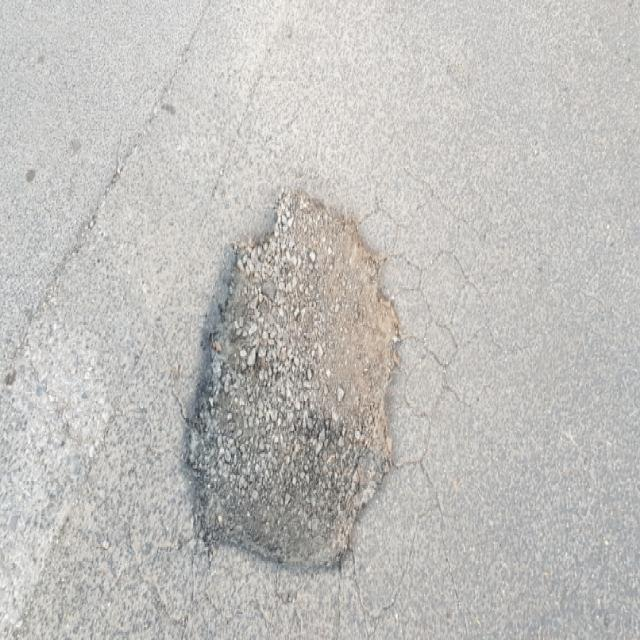pothole: (175, 178, 405, 578)
